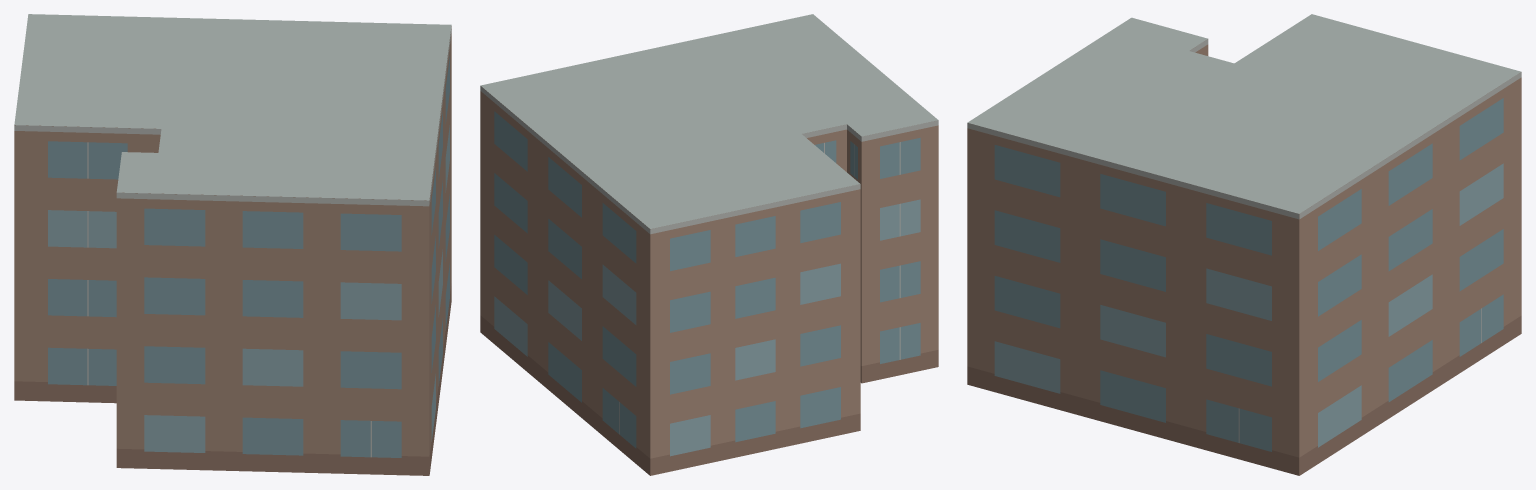
Rendered from survey-upis-32956164.glb.
The picture shows the model from 3 angles, left to right: view 1: azimuth 30°, elevation 25°; view 2: azimuth 150°, elevation 25°; view 3: azimuth 270°, elevation 25°; orthographic projection. The views are drawn at different scales.
Visible parts, largest first — view 1: survey-upis-32956164.tmp; view 2: survey-upis-32956164.tmp; view 3: survey-upis-32956164.tmp.
Boxes of the visible parts, box(x1,y1,x2,y2) form: survey-upis-32956164.tmp: box(14, 14, 451, 475); survey-upis-32956164.tmp: box(480, 14, 938, 475); survey-upis-32956164.tmp: box(967, 14, 1521, 475).
Size of the model in its own units: 19 by 11.6 by 22.26.
